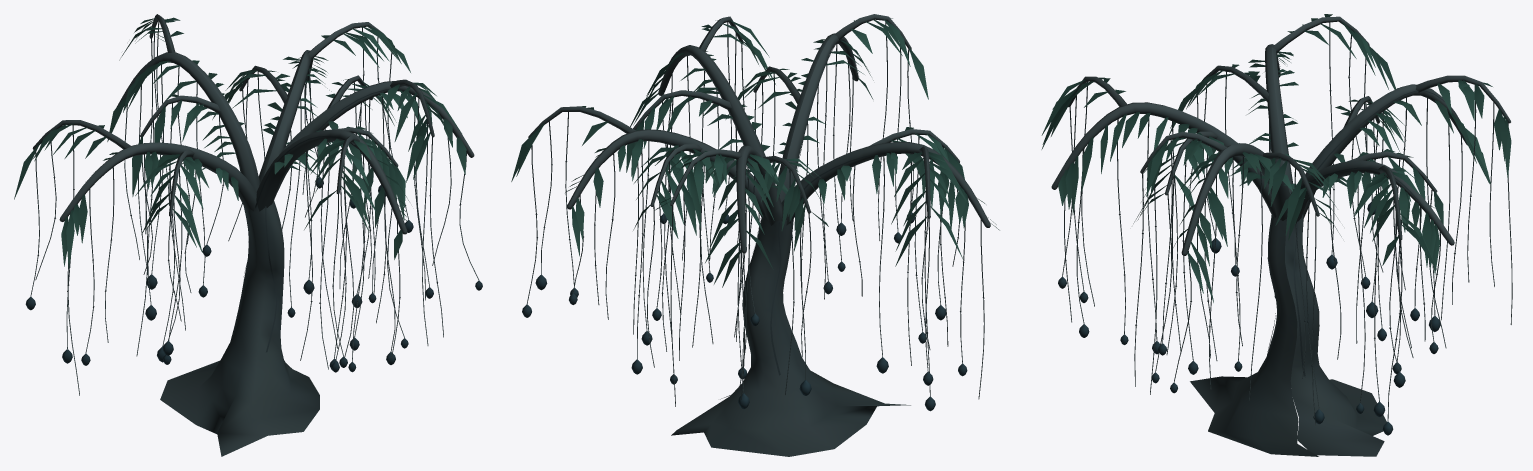
File: weepingTree_lod0.glb
3 views of the same model, side by side, from view 1: azimuth 30°, elevation 25°; view 2: azimuth 150°, elevation 25°; view 3: azimuth 270°, elevation 25° (orthographic). The views are drawn at different scales.
Visible parts, largest first — view 1: weeping tree; view 2: weeping tree; view 3: weeping tree.
Part boxes in pixels (x1,y1,x2,y2): weeping tree: (14, 14, 482, 456); weeping tree: (511, 14, 999, 456); weeping tree: (1041, 14, 1512, 456).
Bounding box in the file's own units: 10.6 × 8.16 × 10.09.
